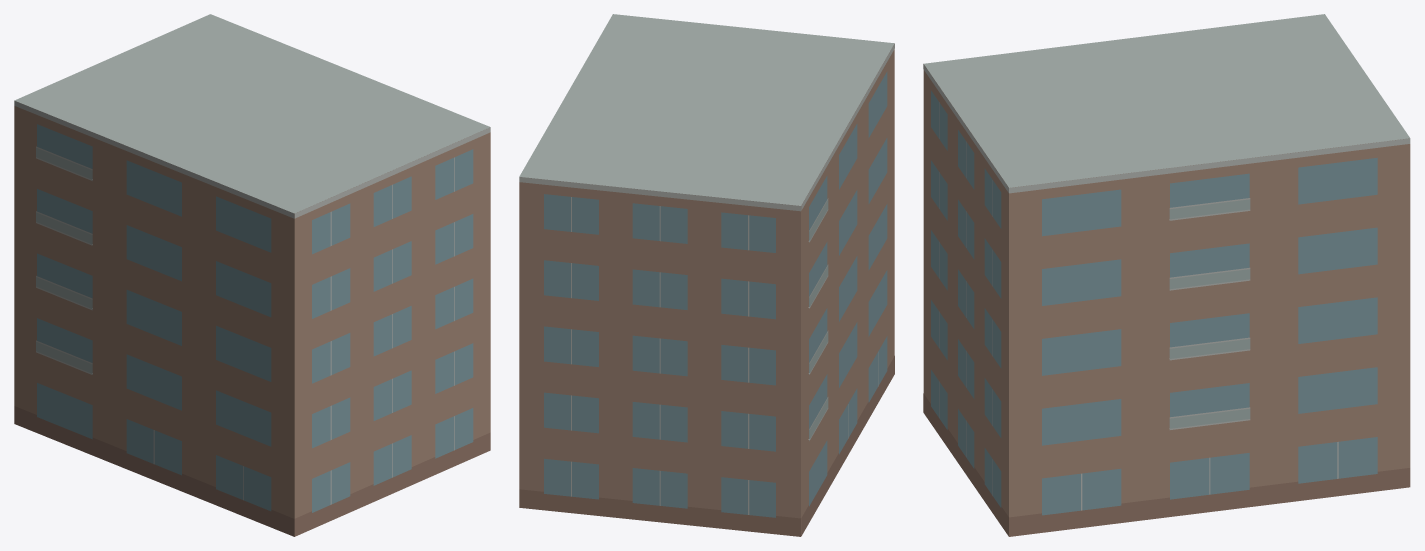
The model's file is survey-upis-32956764.glb.
3 views of the same model, side by side, from view 1: azimuth 30°, elevation 25°; view 2: azimuth 150°, elevation 25°; view 3: azimuth 270°, elevation 25° (orthographic). The views are drawn at different scales.
Visible parts, largest first — view 1: survey-upis-32956764.tmp; view 2: survey-upis-32956764.tmp; view 3: survey-upis-32956764.tmp.
Part boxes in pixels (x1=…): survey-upis-32956764.tmp: x1=14, y1=14, x2=490, y2=536; survey-upis-32956764.tmp: x1=519, y1=14, x2=894, y2=536; survey-upis-32956764.tmp: x1=923, y1=14, x2=1410, y2=536.
Bounding box in the file's own units: 16.3 × 15.25 × 19.29.
